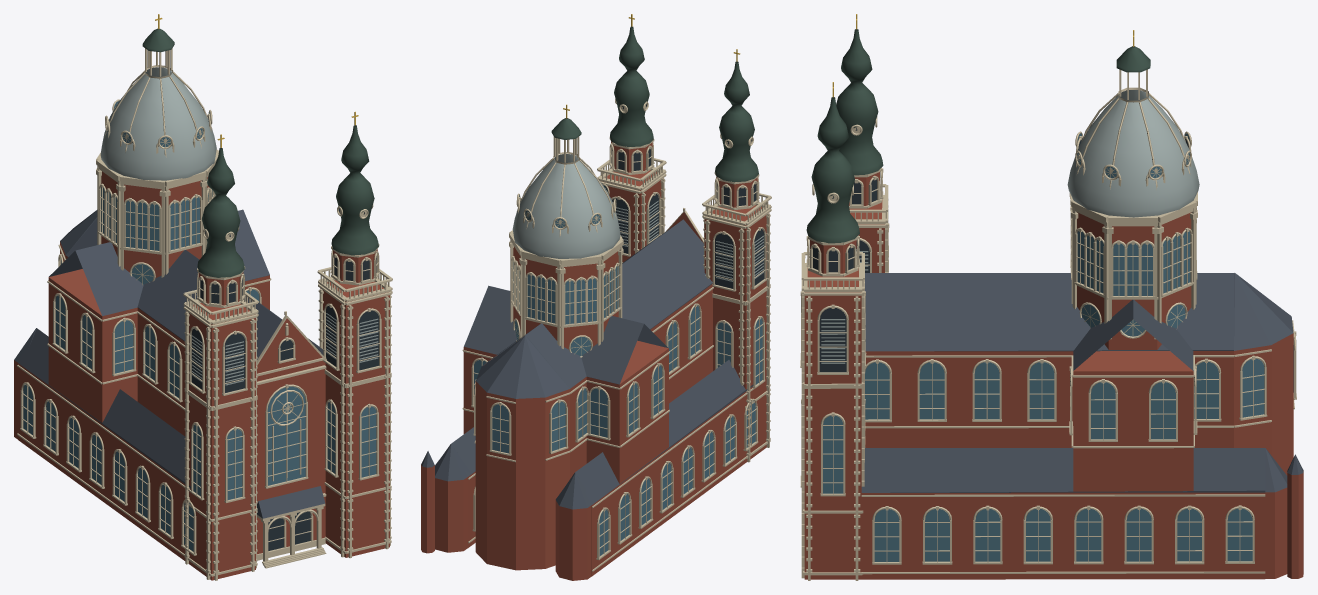
Rendered from sint-nicolaas.glb.
The picture shows the model from 3 angles, left to right: view 1: azimuth 30°, elevation 25°; view 2: azimuth 150°, elevation 25°; view 3: azimuth 270°, elevation 25°; orthographic projection. The views are drawn at different scales.
Visible parts, largest first — view 1: sint-nicolaas; view 2: sint-nicolaas; view 3: sint-nicolaas.
Part boxes in pixels (bbox=[...]): sint-nicolaas: bbox=[14, 14, 392, 580]; sint-nicolaas: bbox=[421, 14, 771, 580]; sint-nicolaas: bbox=[800, 14, 1303, 580].
Size of the model in its own units: 23.8 by 58 by 52.6.
